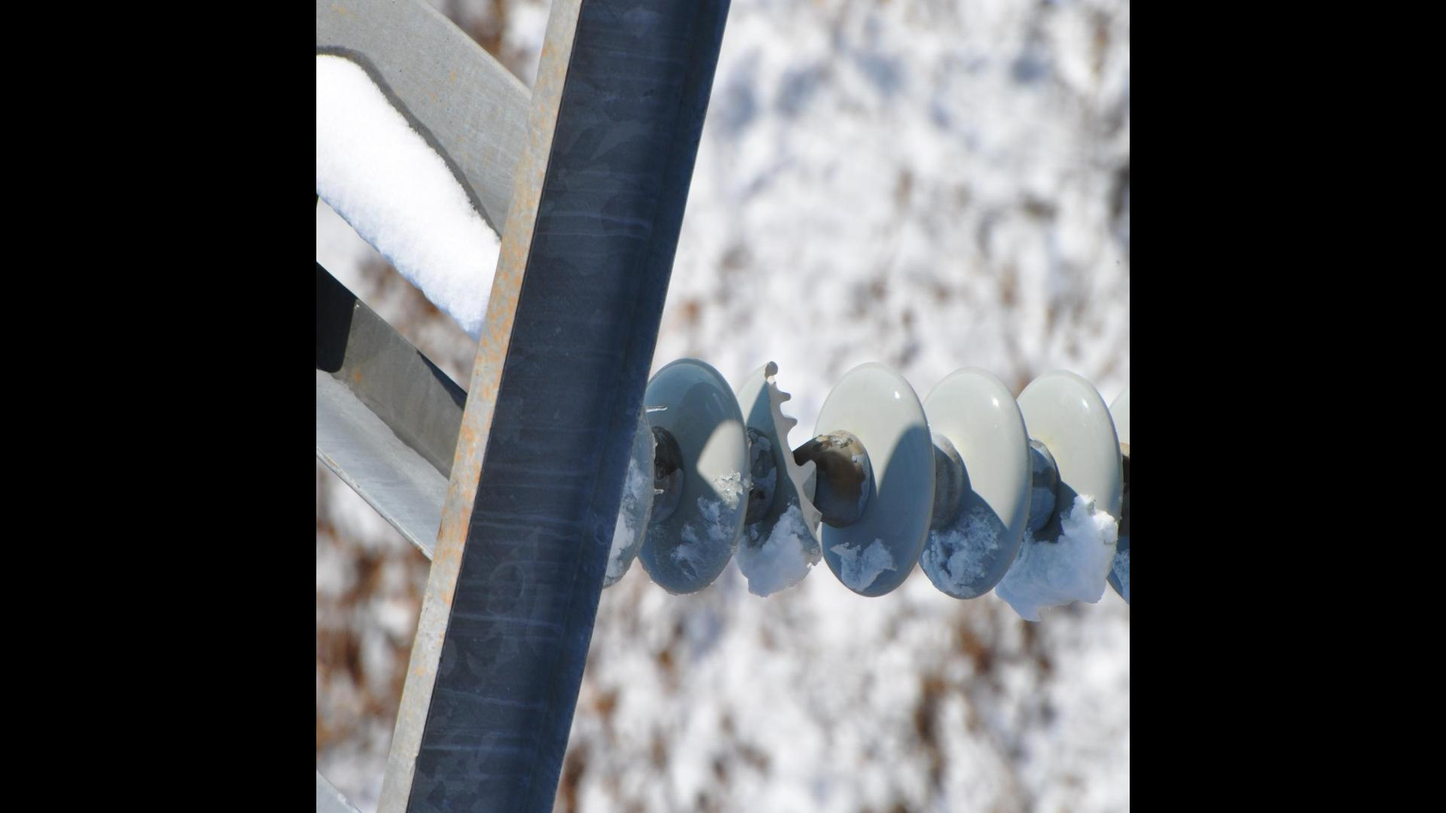insulator: (600, 353, 1126, 617)
insulator_breakage: (756, 355, 831, 570)
